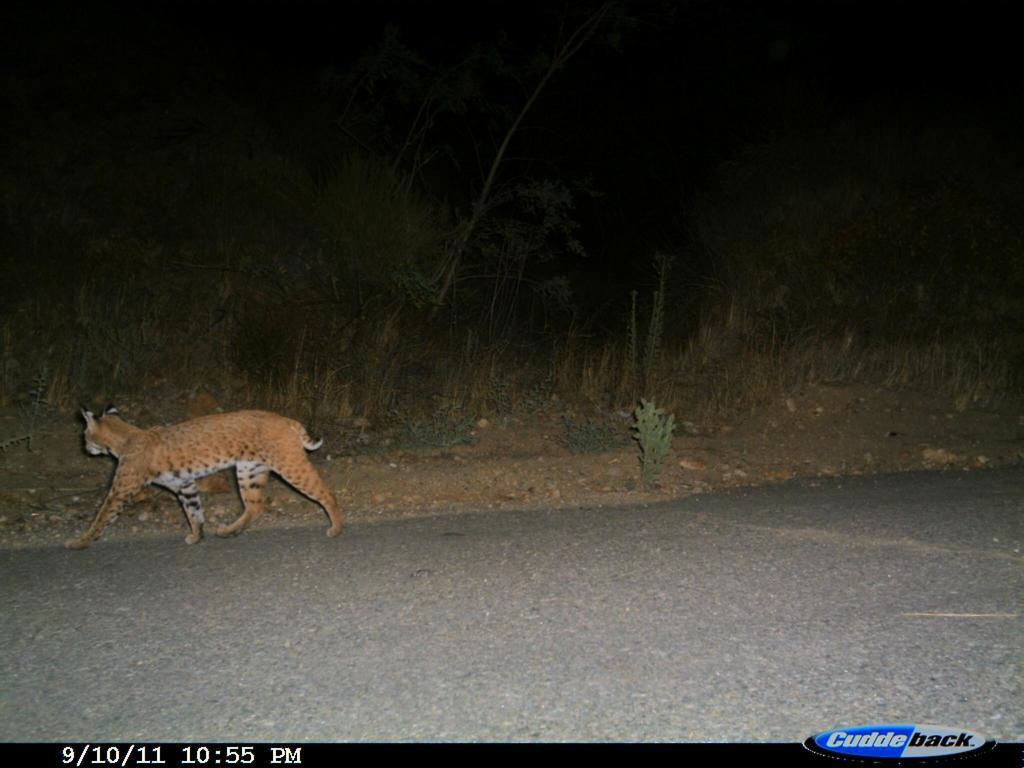bobcat: (66, 396, 351, 557)
